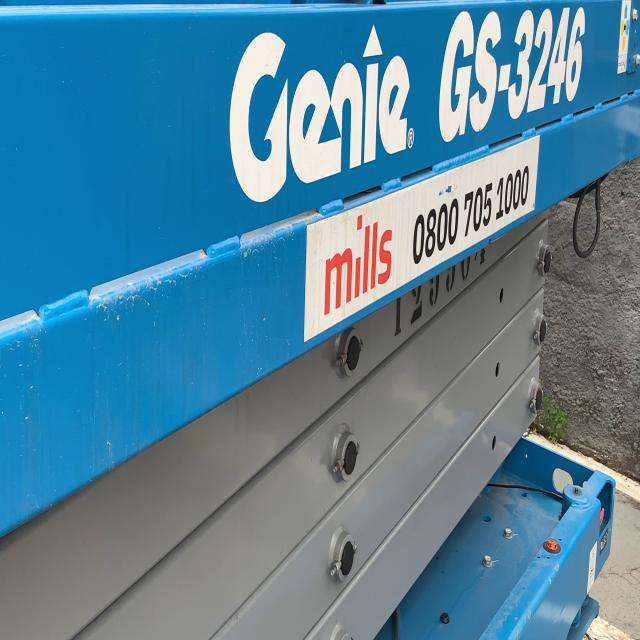Adesivo Longo: (302, 133, 541, 348)
